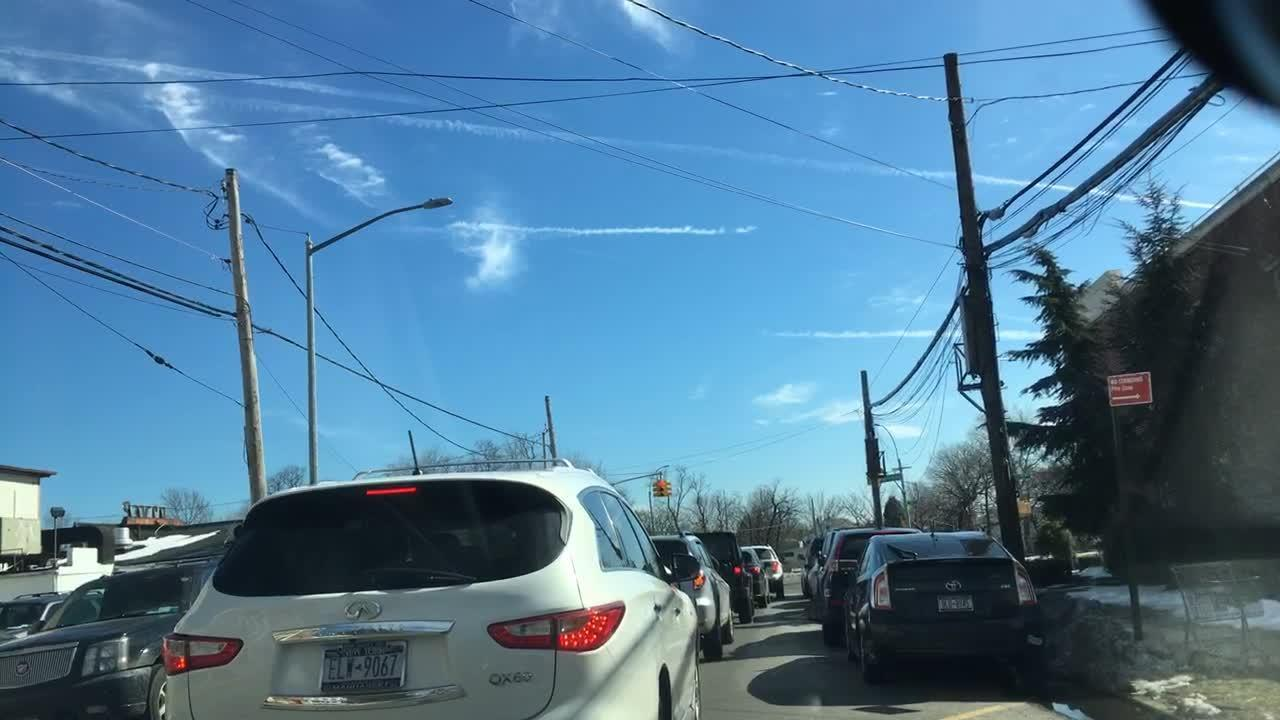Infiniti: (339, 593, 385, 626)
